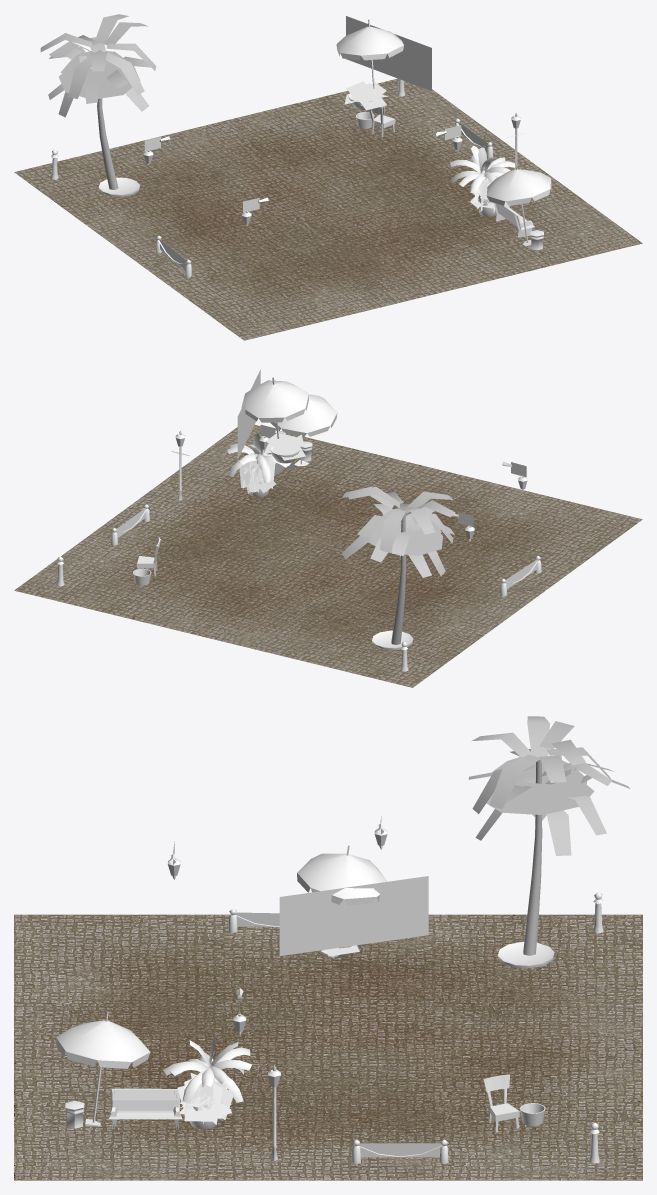
File: propsonly_2.gltf
3 renders of one model, top to bottom at view 1: azimuth 30°, elevation 25°; view 2: azimuth 150°, elevation 25°; view 3: azimuth 270°, elevation 25°, orthographic. The views are drawn at different scales.
Visible parts, largest first — view 1: ground.008, prop_tree2, prop_lights2, prop_sunshade2, prop_sunshade2.001, prop_treepot_tree2, prop_pot_flower2, prop_bench2, prop_pot2.001, prop_chain_fence2; view 2: ground.008, prop_tree2, prop_sunshade2.001, prop_sunshade2, prop_treepot_tree2, prop_treepot_bush2, prop_pot_flower2, prop_lights2, prop_chain_fence2, prop_pot2.001, prop_chain_fence2.001; view 3: ground.008, prop_tree2, prop_lights2, prop_sunshade2, prop_sunshade2.001, prop_treepot_tree2, prop_bench2, prop_treepot_bush2, prop_chain_fence2.001, prop_pot2.001, prop_chair2, prop_chain_fence2.
Boxes of the visible parts, <box> form: ground.008: <box>14,78,642,340</box>; prop_tree2: <box>40,14,156,189</box>; prop_lights2: <box>346,16,431,90</box>; prop_sunshade2: <box>486,162,551,246</box>; prop_sunshade2.001: <box>336,19,403,88</box>; prop_treepot_tree2: <box>450,145,515,193</box>; prop_pot_flower2: <box>344,81,388,110</box>; prop_bench2: <box>494,203,534,237</box>; prop_pot2.001: <box>98,177,140,196</box>; prop_chain_fence2: <box>155,235,192,277</box>; ground.008: <box>14,425,642,687</box>; prop_tree2: <box>342,486,455,644</box>; prop_sunshade2.001: <box>241,377,308,438</box>; prop_sunshade2: <box>270,394,337,466</box>; prop_treepot_tree2: <box>227,433,291,482</box>; prop_treepot_bush2: <box>239,460,276,493</box>; prop_pot_flower2: <box>264,433,305,460</box>; prop_lights2: <box>237,369,260,459</box>; prop_chain_fence2: <box>500,556,541,596</box>; prop_pot2.001: <box>372,630,413,649</box>; prop_chain_fence2.001: <box>111,504,149,545</box>; ground.008: <box>14,914,642,1180</box>; prop_tree2: <box>468,716,629,955</box>; prop_lights2: <box>279,876,428,955</box>; prop_sunshade2: <box>56,1011,150,1126</box>; prop_sunshade2.001: <box>297,845,387,958</box>; prop_treepot_tree2: <box>163,1035,252,1102</box>; prop_bench2: <box>108,1088,182,1129</box>; prop_treepot_bush2: <box>177,1073,232,1124</box>; prop_chain_fence2.001: <box>351,1139,448,1163</box>; prop_pot2.001: <box>497,942,554,968</box>; prop_chair2: <box>483,1074,519,1132</box>; prop_chain_fence2: <box>228,908,279,932</box>.
Size of what is drawn, in the model's own units: 3.31 by 1.45 by 3.3.
